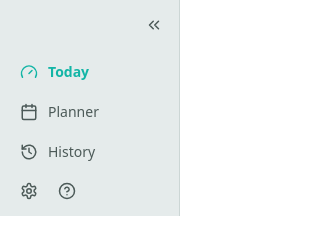
Nav › shows a failed check
What coordinates should you click on to do the following:
click the button named "Help and about"
I would click on:
 (67, 191)
Its box is x1=50 y1=174 x2=84 y2=208.
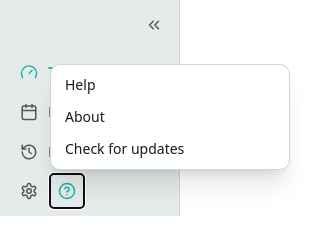
What coordinates should you click on to do the following:
click the menu item "Check for updates"
I would click on:
 (170, 149)
Its box is x1=55 y1=133 x2=285 y2=165.
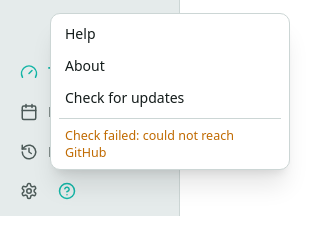
Check: the message shows "could not reach GitHub", box x1=65 y1=127 x2=234 y2=161
